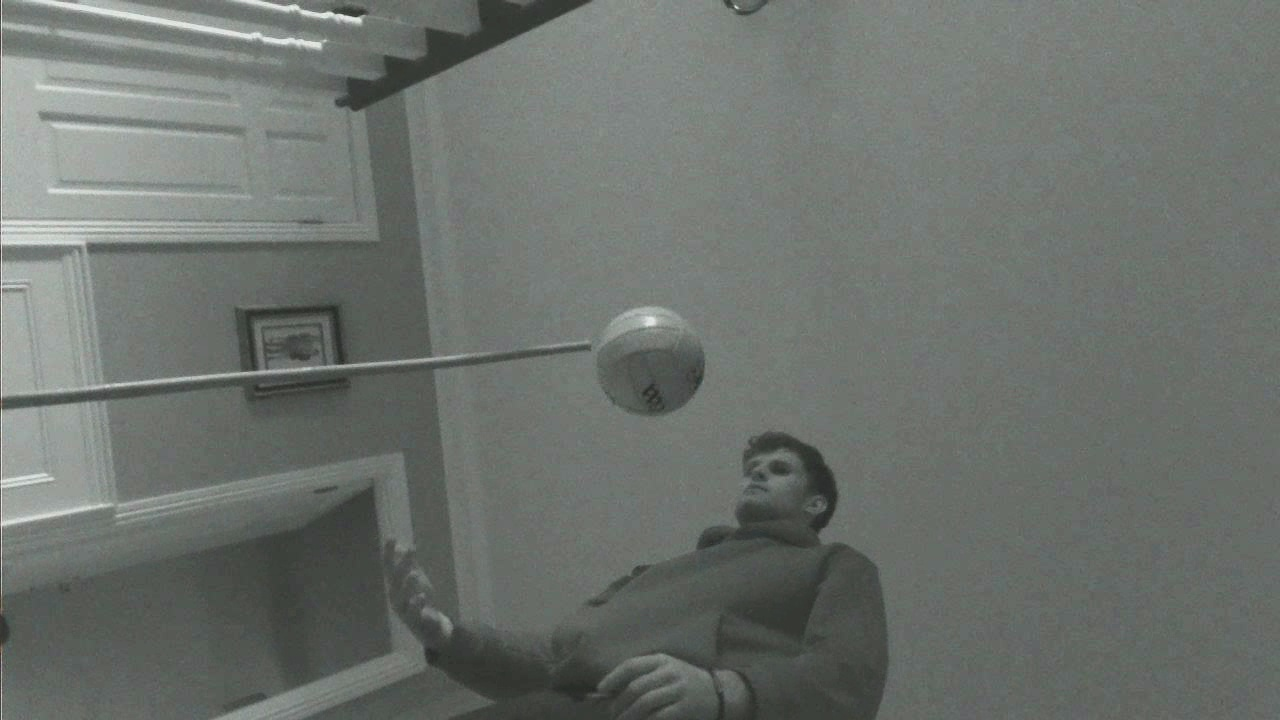Football-Spotter: (594, 307, 704, 414)
